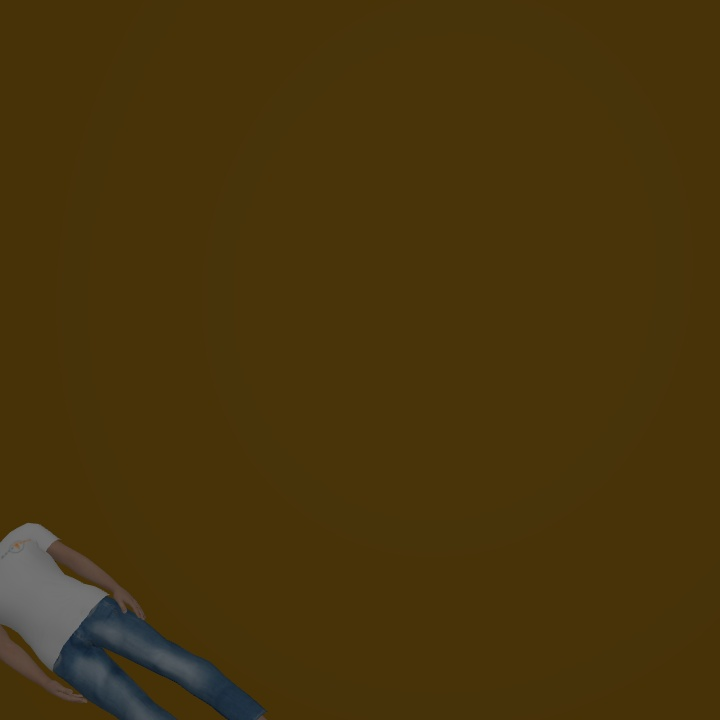victim: (1, 517, 270, 716)
